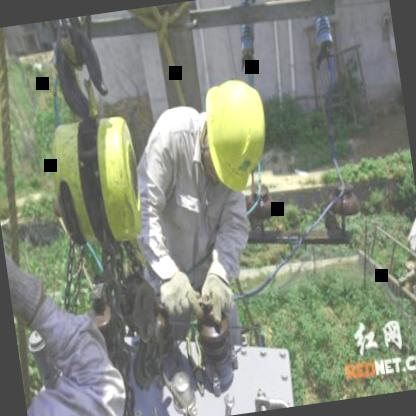helmet: (192, 70, 278, 197)
